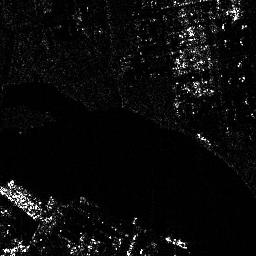ship: (6, 180, 41, 207), (164, 234, 187, 248)
